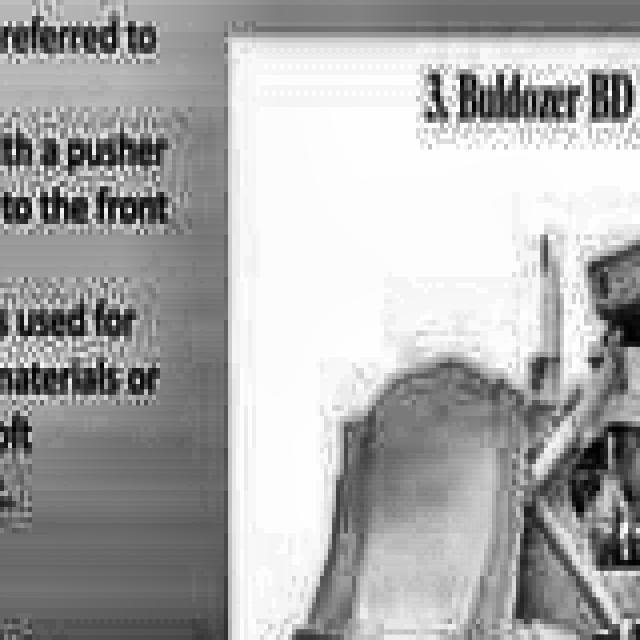buldozerpayloadergrader: (288, 234, 640, 640)
